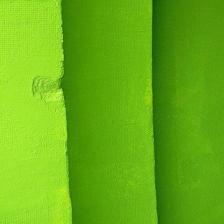green: (62, 0, 157, 224), (1, 0, 72, 224)
